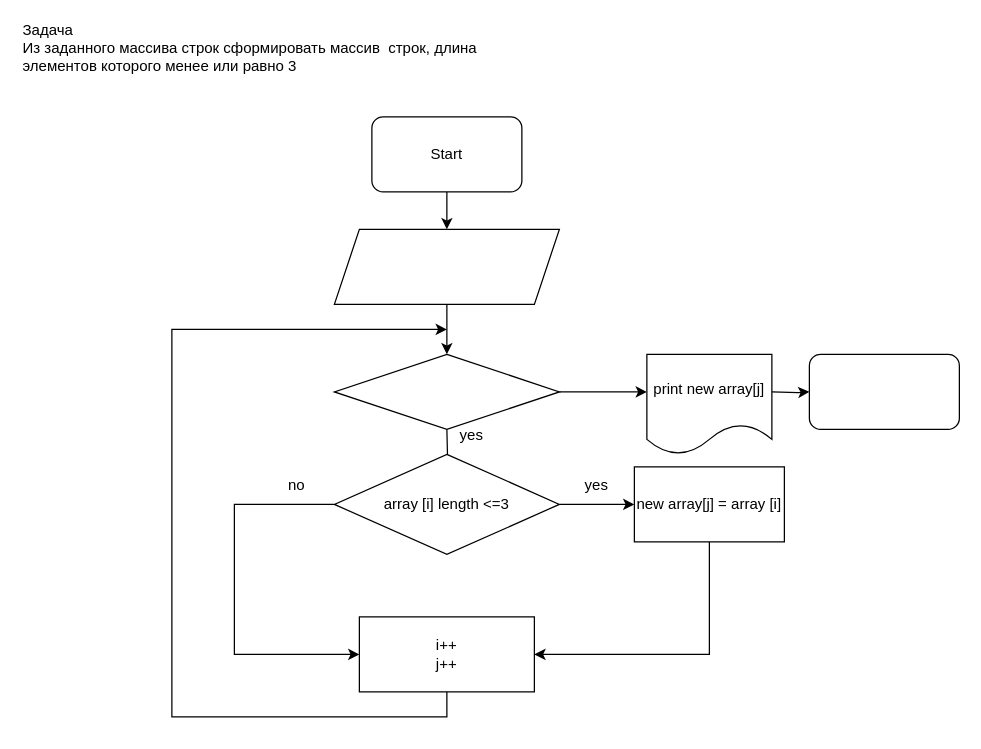
The diagram is 981 pixels wide and 749 high, and some of its shapes have lost their labels. Here are the shapes that lost their labels. From the top down, the centre of each, then its label:
the point at 446,266: string array [i] i= 0 string new array[j]
the point at 446,391: i < array.length
the point at 883,391: end
